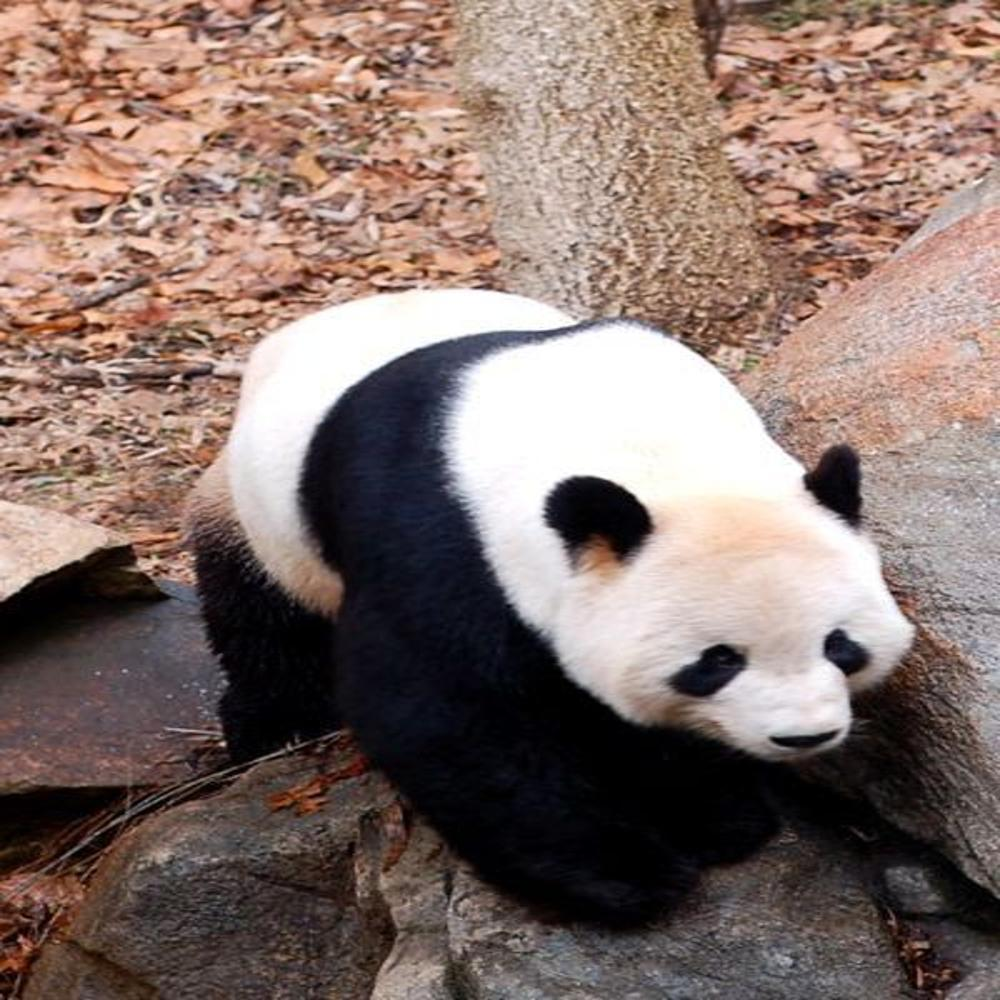panda: (184, 282, 921, 948)
